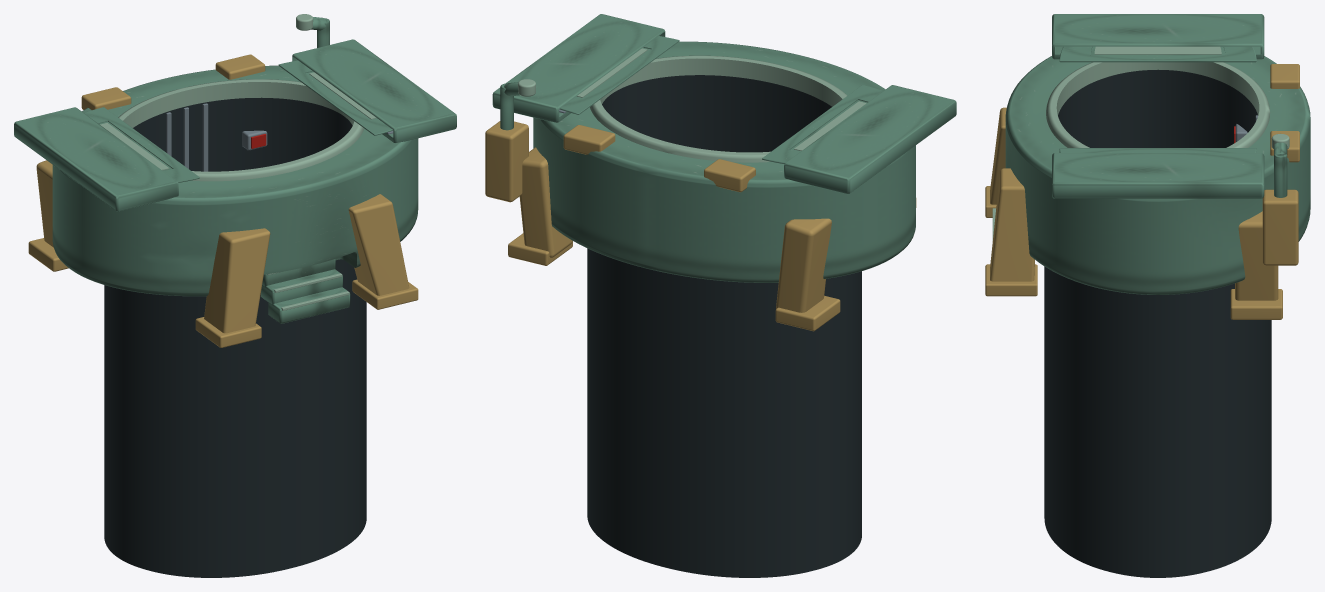
The model's file is descriptor-13.glb.
3 renders of one model, left to right at view 1: azimuth 30°, elevation 25°; view 2: azimuth 150°, elevation 25°; view 3: azimuth 270°, elevation 25°, orthographic. The views are drawn at different scales.
Parts seen in each view (by area): view 1: RI10 shaft wall below ground, RI10 fixed oval body, RI10 enclosed side cover cassette, RI10 enclosed side cover cassette.001, RI10 green aperture coaming, RI10 front splayed brass buttress, RI10 front splayed brass buttress.001, RI10 right cover shell inner segment, RI10 left cover shell inner segment, RI10 front access step 0, RI10 front access step 1, RI10 rear brass load-bearing buttress (+6 smaller); view 2: RI10 shaft wall below ground, RI10 fixed oval body, RI10 enclosed side cover cassette, RI10 enclosed side cover cassette.001, RI10 green aperture coaming, RI10 rear brass load-bearing buttress, RI10 rear brass load-bearing buttress.001, RI10 right equipment mast foundation, RI10 right cover shell inner segment, RI10 left cover shell inner segment, RI10 rear brass foot flange, RI10 rear brass shoulder cap (+2 smaller); view 3: RI10 shaft wall below ground, RI10 fixed oval body, RI10 enclosed side cover cassette.001, RI10 enclosed side cover cassette, RI10 green aperture coaming, RI10 front splayed brass buttress.001, RI10 right equipment mast foundation, RI10 rear brass load-bearing buttress.001, RI10 left cover shell inner segment, RI10 rear brass foot flange.001, RI10 recessed green cover field inner segment, RI10 front brass foot flange.001 (+5 smaller).
Boxes of the visible parts, <box> form: RI10 shaft wall below ground: <box>104,97,366,577</box>; RI10 fixed oval body: <box>52,65,418,296</box>; RI10 enclosed side cover cassette: <box>14,107,178,211</box>; RI10 enclosed side cover cassette.001: <box>292,39,456,142</box>; RI10 green aperture coaming: <box>118,79,364,181</box>; RI10 front splayed brass buttress: <box>204,228,270,333</box>; RI10 front splayed brass buttress.001: <box>348,194,409,295</box>; RI10 right cover shell inner segment: <box>278,60,393,135</box>; RI10 left cover shell inner segment: <box>84,107,199,182</box>; RI10 front access step 0: <box>268,287,350,323</box>; RI10 front access step 1: <box>261,269,342,304</box>; RI10 rear brass load-bearing buttress: <box>36,160,53,247</box>; RI10 shaft wall below ground: <box>587,75,861,577</box>; RI10 fixed oval body: <box>533,41,915,282</box>; RI10 enclosed side cover cassette: <box>784,85,956,193</box>; RI10 enclosed side cover cassette.001: <box>492,14,665,122</box>; RI10 green aperture coaming: <box>590,55,847,162</box>; RI10 rear brass load-bearing buttress: <box>776,218,831,312</box>; RI10 rear brass load-bearing buttress.001: <box>519,147,572,257</box>; RI10 right equipment mast foundation: <box>485,121,528,202</box>; RI10 right cover shell inner segment: <box>559,36,679,114</box>; RI10 left cover shell inner segment: <box>762,85,882,163</box>; RI10 rear brass foot flange: <box>775,295,840,331</box>; RI10 rear brass shoulder cap: <box>704,159,755,192</box>; RI10 shaft wall below ground: <box>1044,69,1271,577</box>; RI10 fixed oval body: <box>1005,56,1310,294</box>; RI10 enclosed side cover cassette.001: <box>1052,153,1264,198</box>; RI10 enclosed side cover cassette: <box>1052,14,1264,59</box>; RI10 green aperture coaming: <box>1046,62,1270,147</box>; RI10 front splayed brass buttress.001: <box>990,168,1034,281</box>; RI10 right equipment mast foundation: <box>1262,189,1298,265</box>; RI10 rear brass load-bearing buttress.001: <box>1235,211,1278,300</box>; RI10 left cover shell inner segment: <box>1059,46,1256,62</box>; RI10 rear brass foot flange.001: <box>1230,289,1282,319</box>; RI10 recessed green cover field inner segment: <box>1094,46,1221,54</box>; RI10 front brass foot flange.001: <box>985,264,1037,296</box>.
Bounding box in the file's own units: 2.7 × 3.31 × 2.17.
7 materials, 2 textured.
